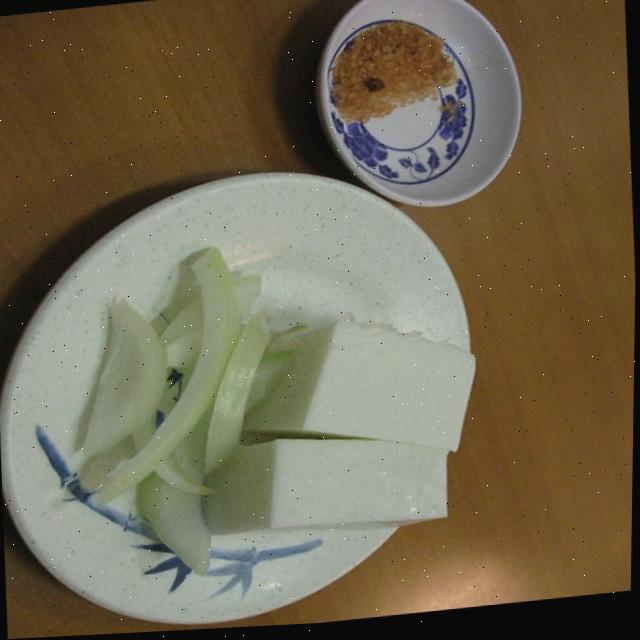蛋糕甜品: (19, 170, 524, 627)
